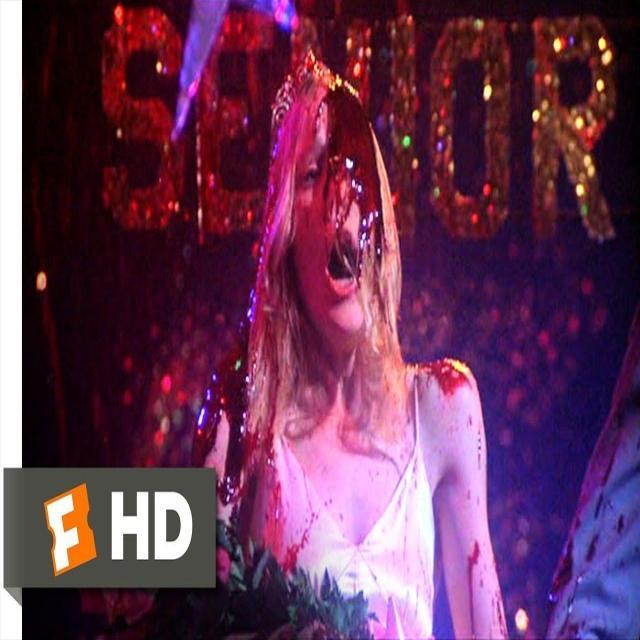flood: (326, 88, 385, 282), (194, 348, 253, 502)
